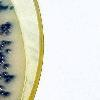Blue: (2, 91, 11, 98), (4, 29, 12, 36), (3, 78, 11, 84), (8, 74, 16, 80), (4, 41, 13, 46), (5, 21, 12, 27), (0, 44, 6, 51), (0, 29, 5, 37), (0, 82, 5, 90), (1, 70, 9, 75), (3, 63, 11, 68), (3, 26, 12, 30), (0, 59, 7, 64), (2, 66, 9, 71), (3, 50, 9, 55), (0, 90, 5, 96), (0, 39, 5, 44), (0, 55, 6, 59), (0, 73, 4, 79), (3, 75, 9, 79), (0, 51, 4, 56), (0, 27, 6, 30), (5, 49, 12, 51), (1, 24, 5, 27), (0, 62, 2, 66)
